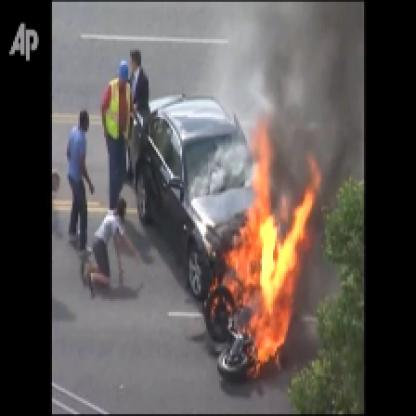Fire: (215, 113, 314, 379)
Smoke: (258, 2, 360, 173)
